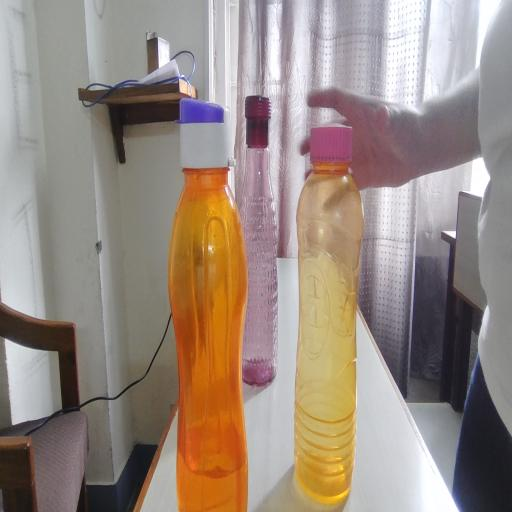Bottle: (167, 97, 257, 512), (300, 123, 374, 505), (245, 88, 285, 395)
